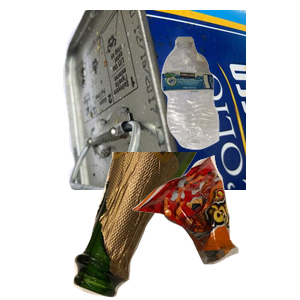glass: (71, 152, 260, 300)
metal: (60, 10, 300, 190)
plastic: (159, 34, 300, 176)
trash: (130, 153, 300, 300)
